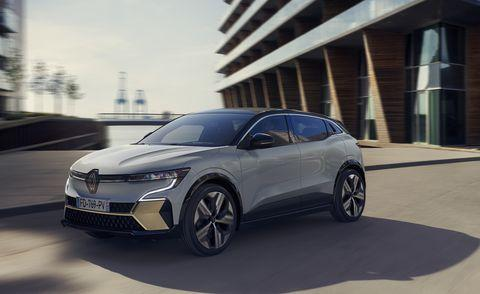Renault: (83, 165, 106, 196)
